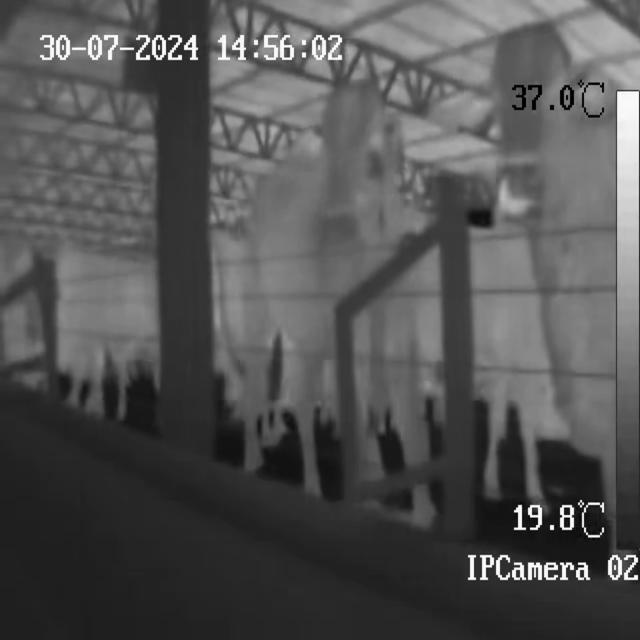eye: (364, 126, 383, 154)
head: (310, 78, 392, 251)
